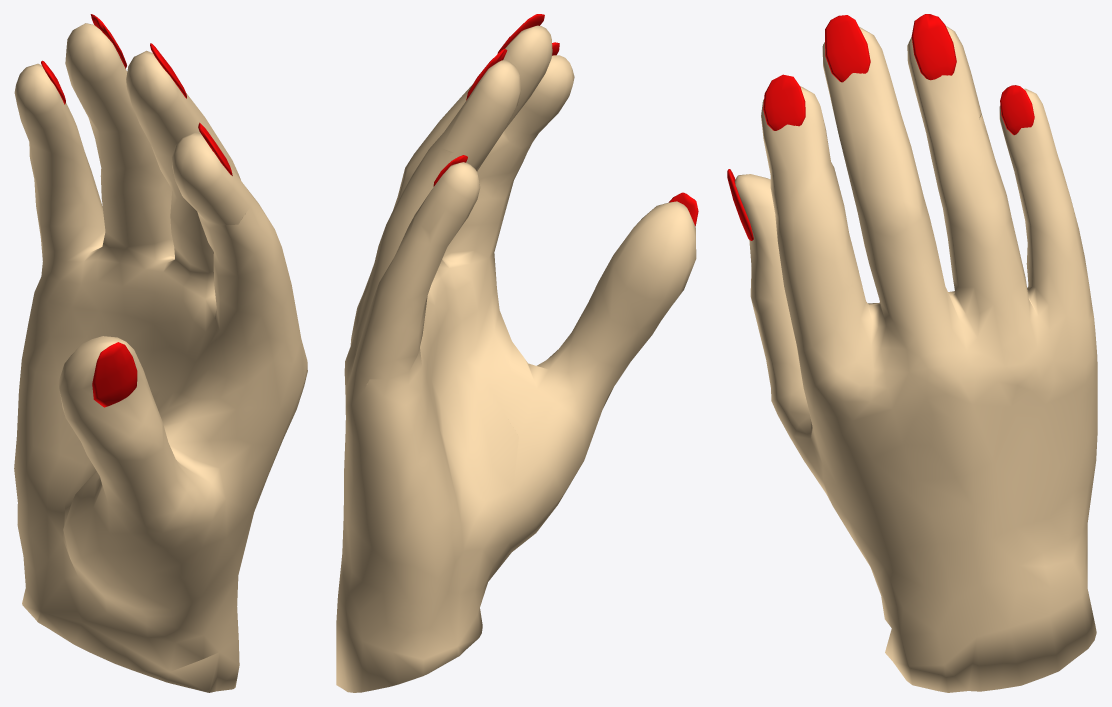
3 views of the same model, side by side, from view 1: azimuth 30°, elevation 25°; view 2: azimuth 150°, elevation 25°; view 3: azimuth 270°, elevation 25° (orthographic). The views are drawn at different scales.
Visible parts, largest first — view 1: Group_001; view 2: Group_001; view 3: Group_001.
Part boxes in pixels (bbox=[...]): Group_001: bbox=[14, 14, 307, 692]; Group_001: bbox=[336, 14, 698, 692]; Group_001: bbox=[727, 14, 1097, 692].
Bounding box in the file's own units: 180 × 428 × 231.
